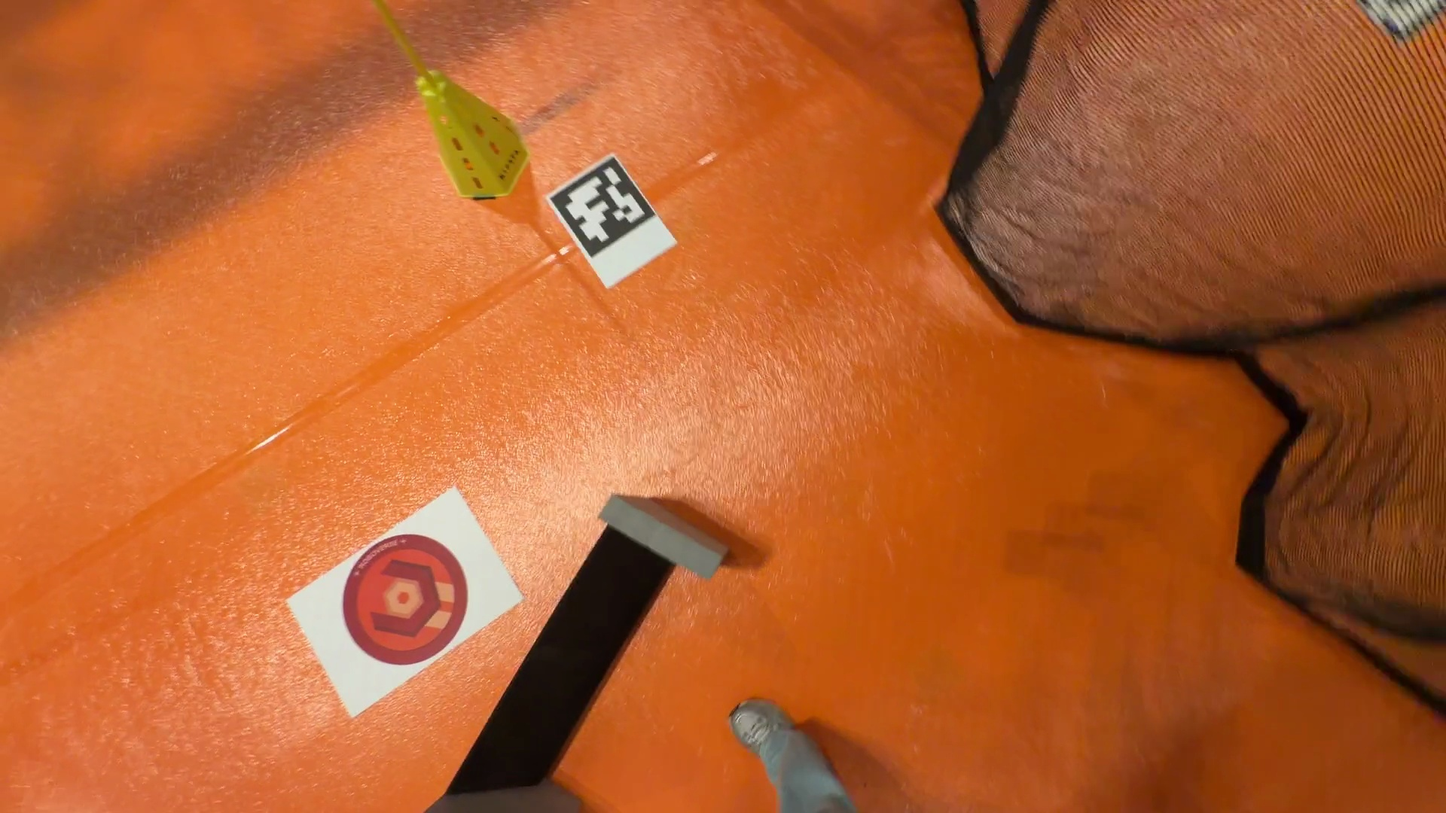landing_pad: (338, 534, 472, 670)
